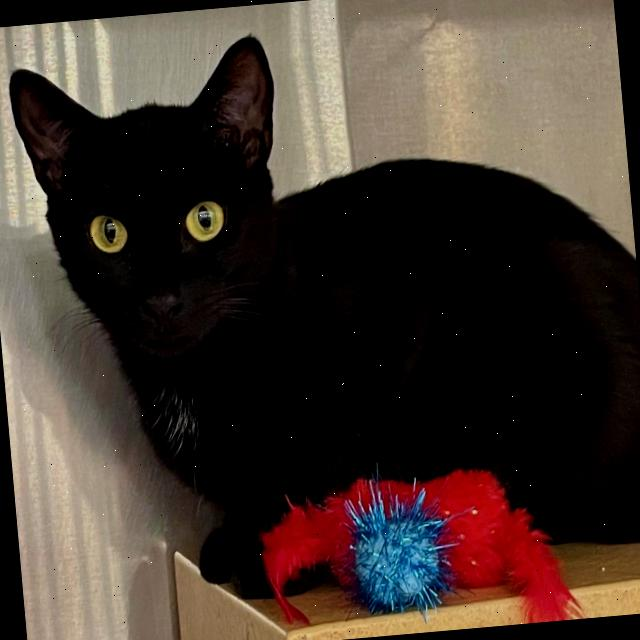bombay_cat: (0, 20, 327, 426)
